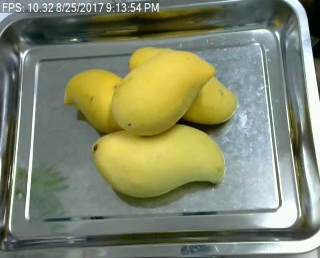Mango: (93, 122, 226, 197), (111, 55, 215, 139), (130, 44, 239, 124), (63, 67, 135, 137)
